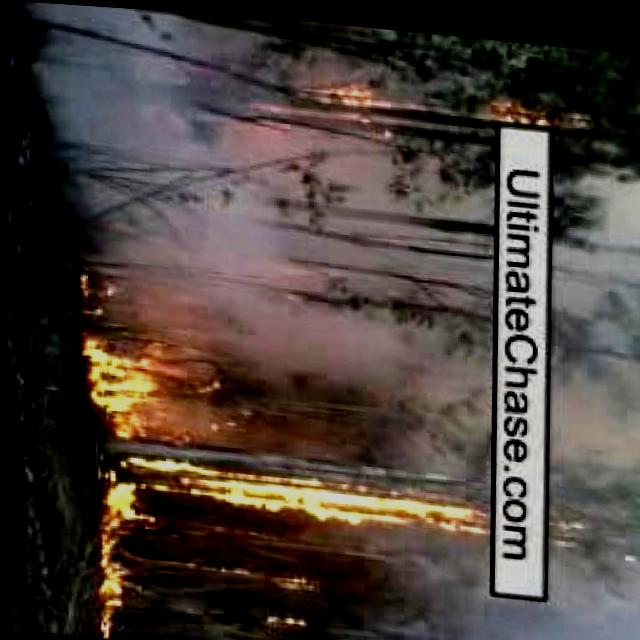helmet: (85, 341, 168, 640), (164, 462, 497, 533), (477, 75, 586, 134), (184, 558, 314, 592), (316, 64, 403, 112), (260, 602, 307, 628)
no_helmet: (22, 11, 640, 640)
